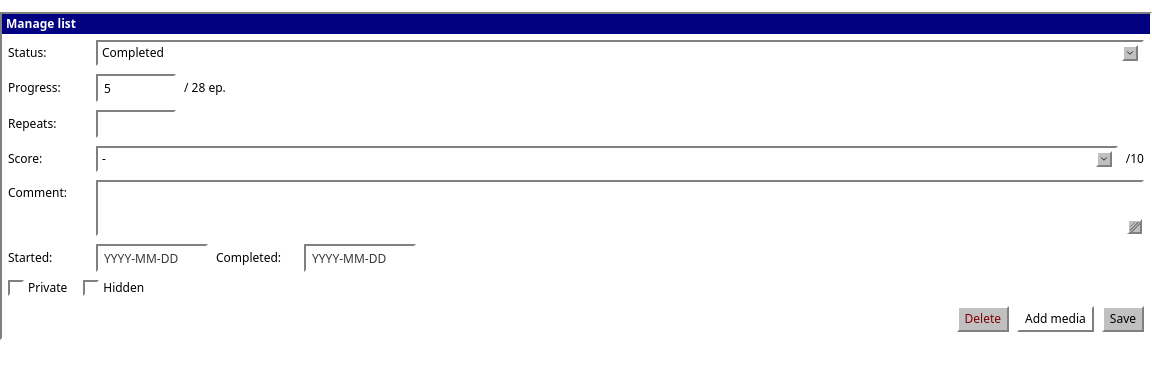
Test: AniListActionControls entry fields › blocks the save on a malformed date
The width and height of the screenshot is (1152, 381).
Type "2023-02-30" into the field named "Started:".
click(152, 258); type("2023-02-30")  # box x1=96 y1=244 x2=208 y2=272
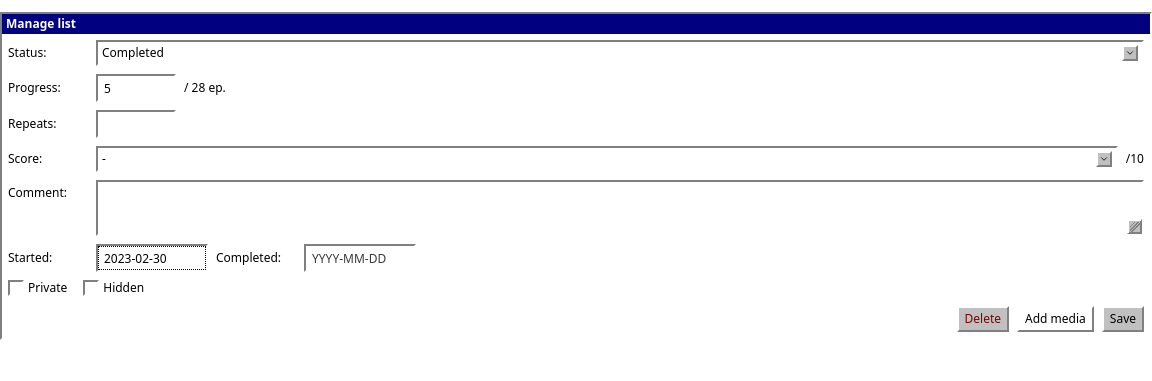
Click the button "Save".
click(1123, 319)  # box x1=1102 y1=306 x2=1144 y2=332
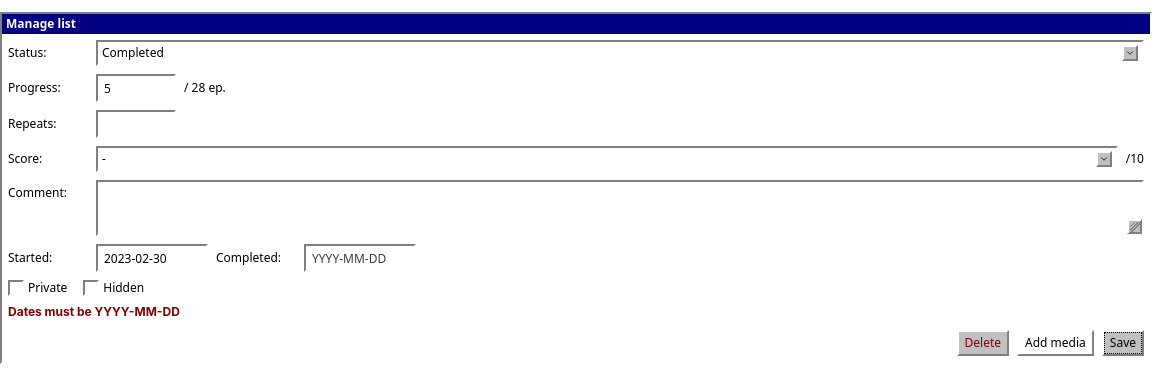
Check: the text "Dates must be YYYY-MM-DD" is shown, box x1=8 y1=304 x2=180 y2=319
